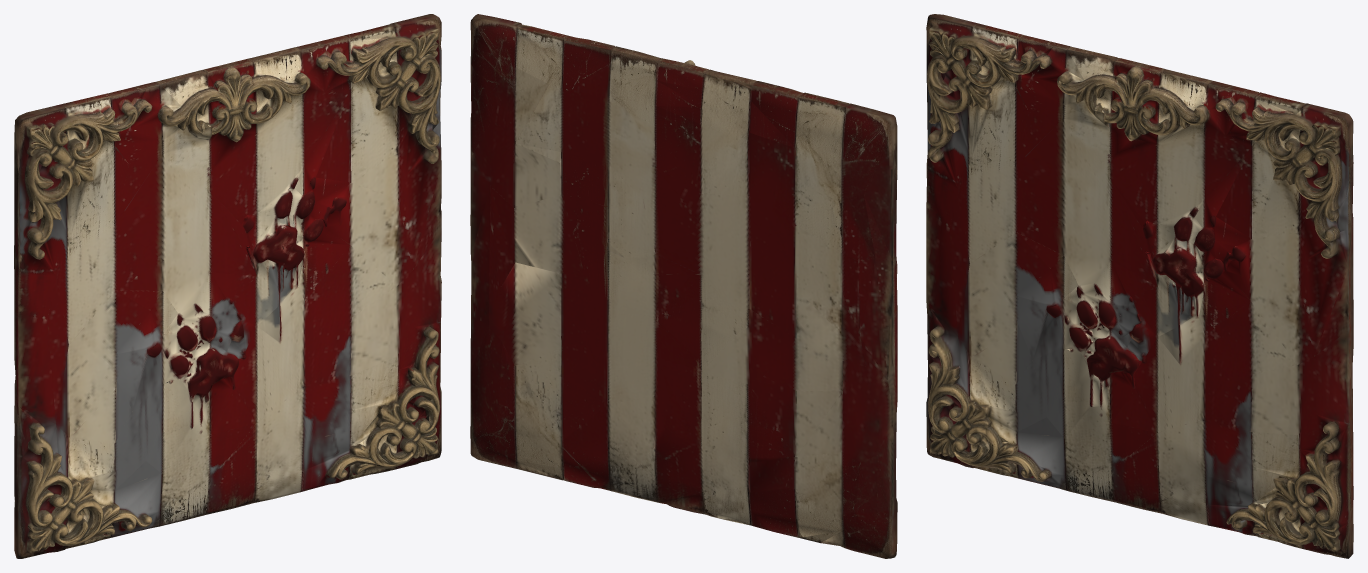
File: PorteChapiteau.fbx
3 renders of one model, left to right at view 1: azimuth 30°, elevation 25°; view 2: azimuth 150°, elevation 25°; view 3: azimuth 330°, elevation 25°, orthographic.
Parts seen in each view (by area): view 1: Mesh_0; view 2: Mesh_0; view 3: Mesh_0.
Part boxes in pixels (bbox=[...]): Mesh_0: bbox=[14, 14, 441, 558]; Mesh_0: bbox=[470, 14, 897, 558]; Mesh_0: bbox=[926, 14, 1353, 558].
Size of the model in its own units: 190 by 190 by 12.88.
Materials: 1 (1 with a texture image).
